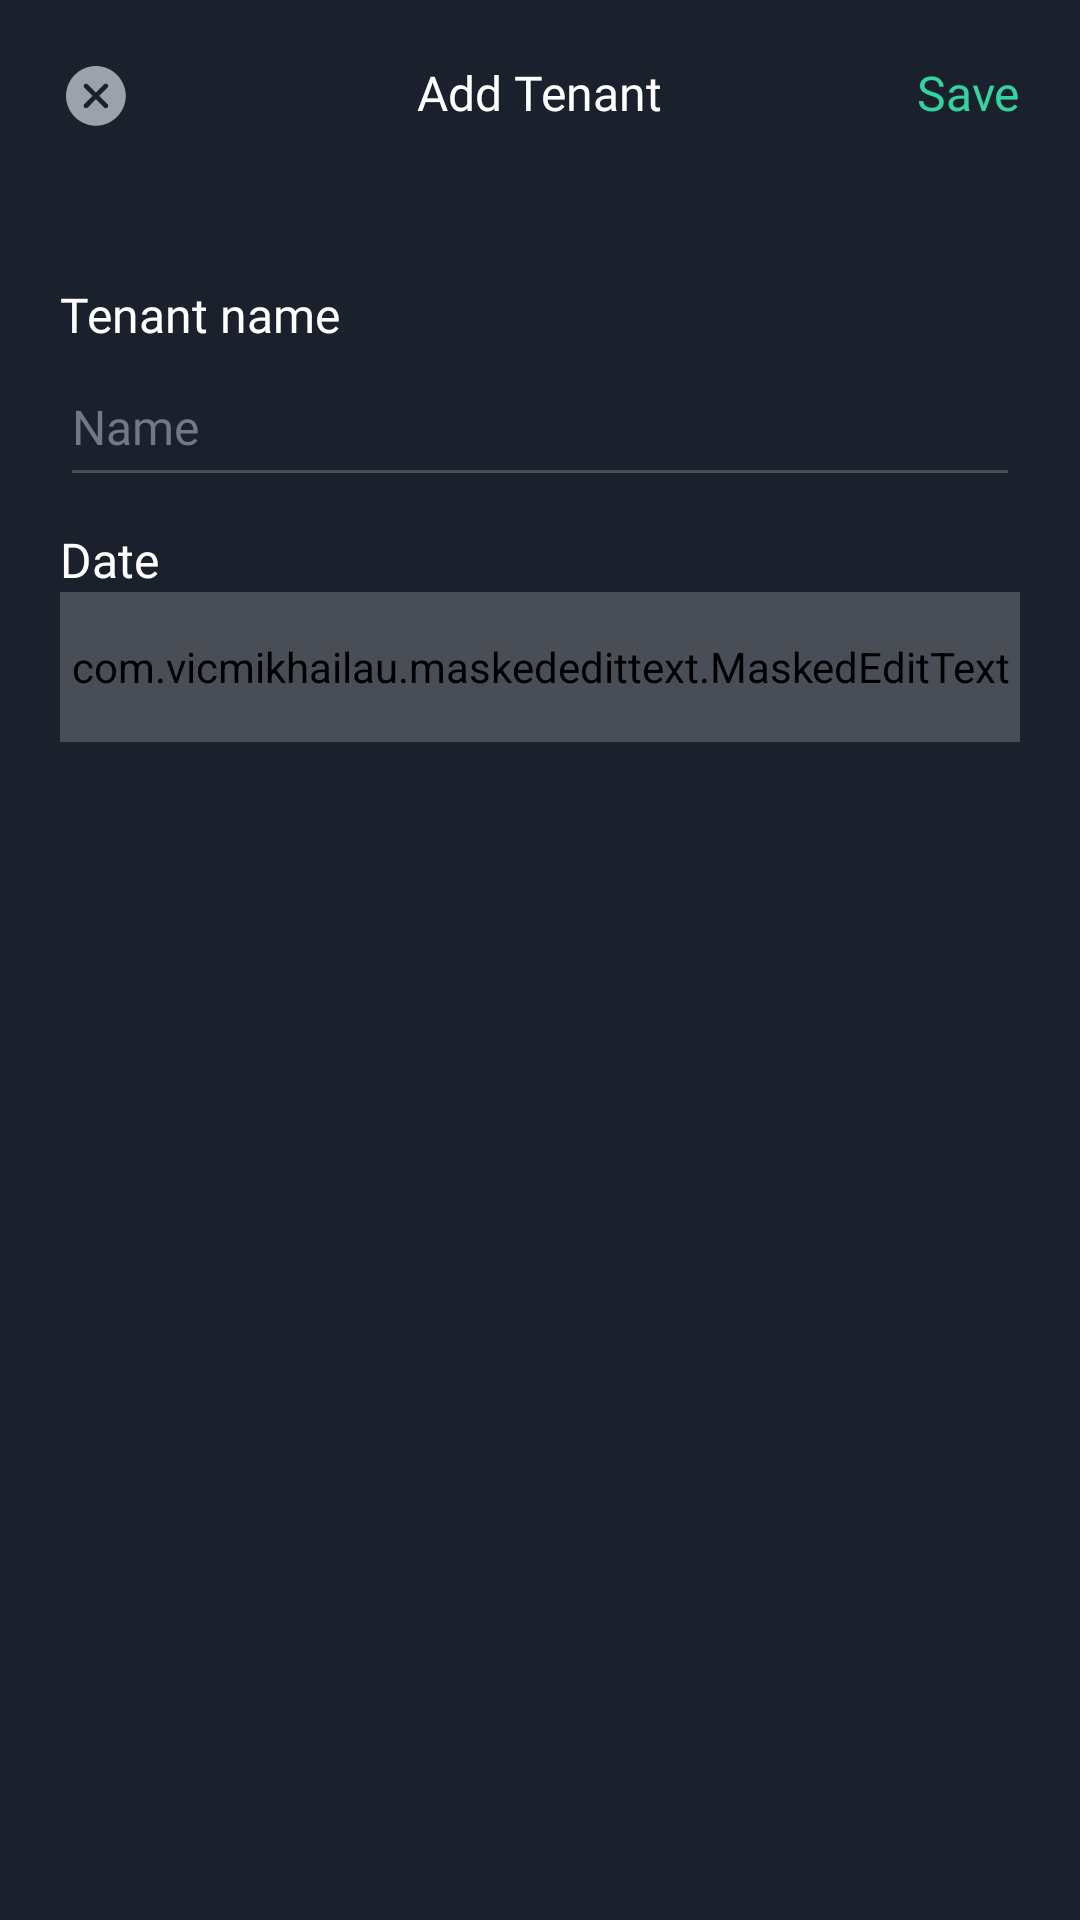

Named icons in this screenshot (1080×1920) and their bounding boxes, (x1, y1, x2, y2):
close: (66, 66, 126, 126)
